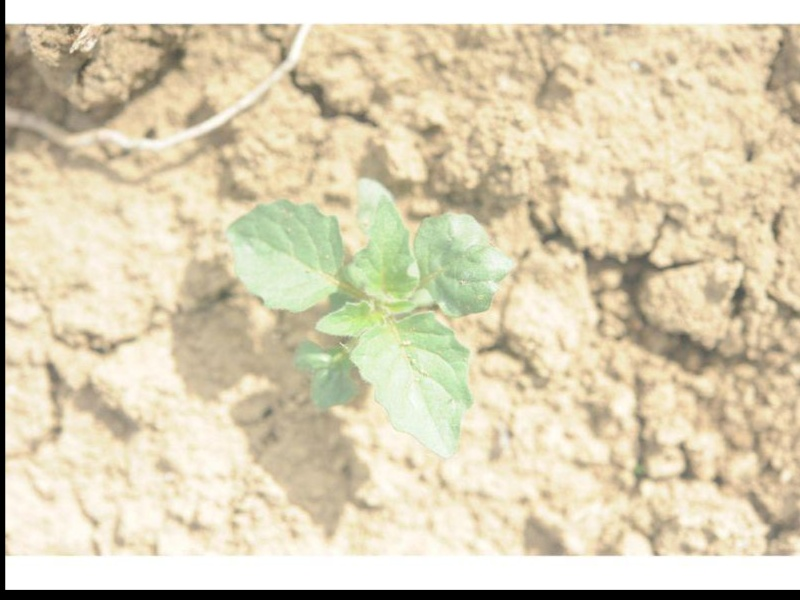nightshade: (224, 175, 509, 460)
